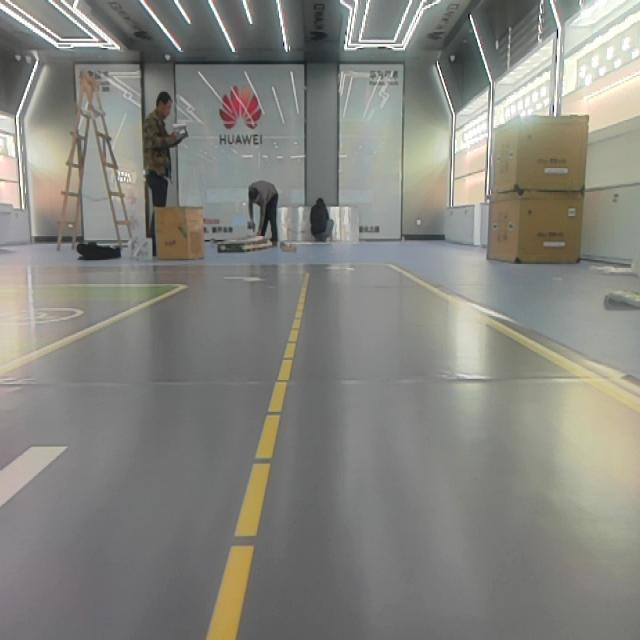left_lane: (204, 267, 312, 638)
right_lane: (394, 262, 640, 413), (1, 286, 178, 381)
